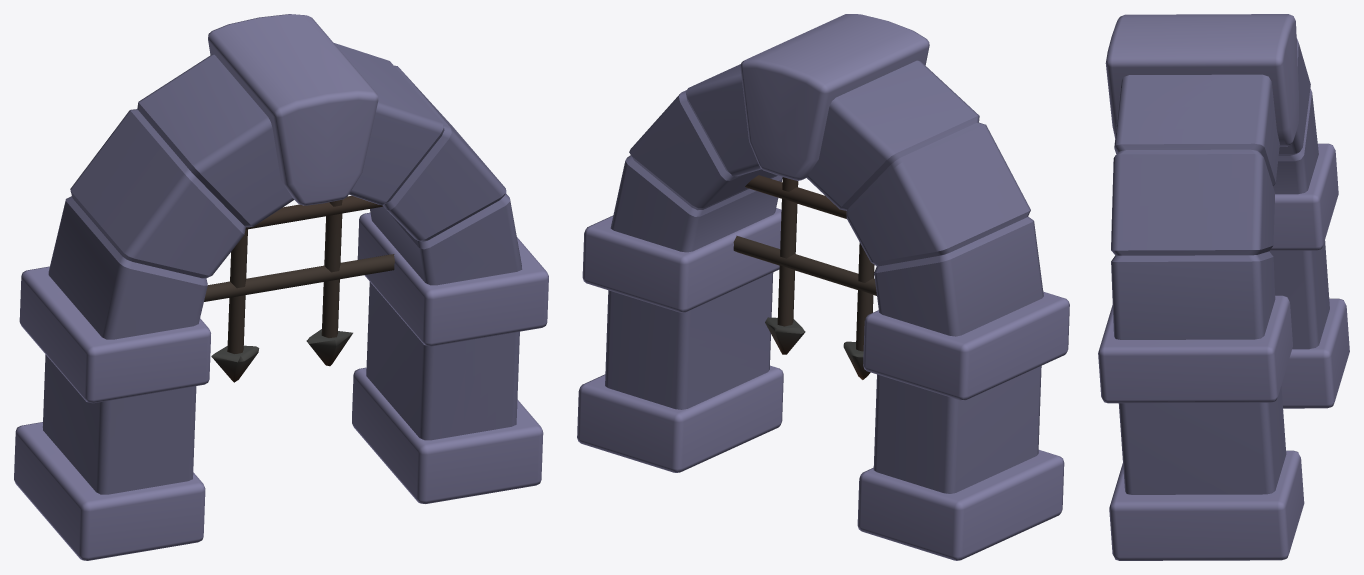
3 renders of one model, left to right at view 1: azimuth 30°, elevation 25°; view 2: azimuth 150°, elevation 25°; view 3: azimuth 270°, elevation 25°, orthographic. The views are drawn at different scales.
Parts seen in each view (by area): view 1: model_1.041; view 2: model_1.041; view 3: model_1.041.
Boxes of the visible parts, x1,y1,x2,y2 form: model_1.041: [14, 14, 548, 560]; model_1.041: [577, 14, 1069, 560]; model_1.041: [1098, 14, 1349, 560].
Size of the model in its own units: 4.35 by 4.19 by 2.17.
